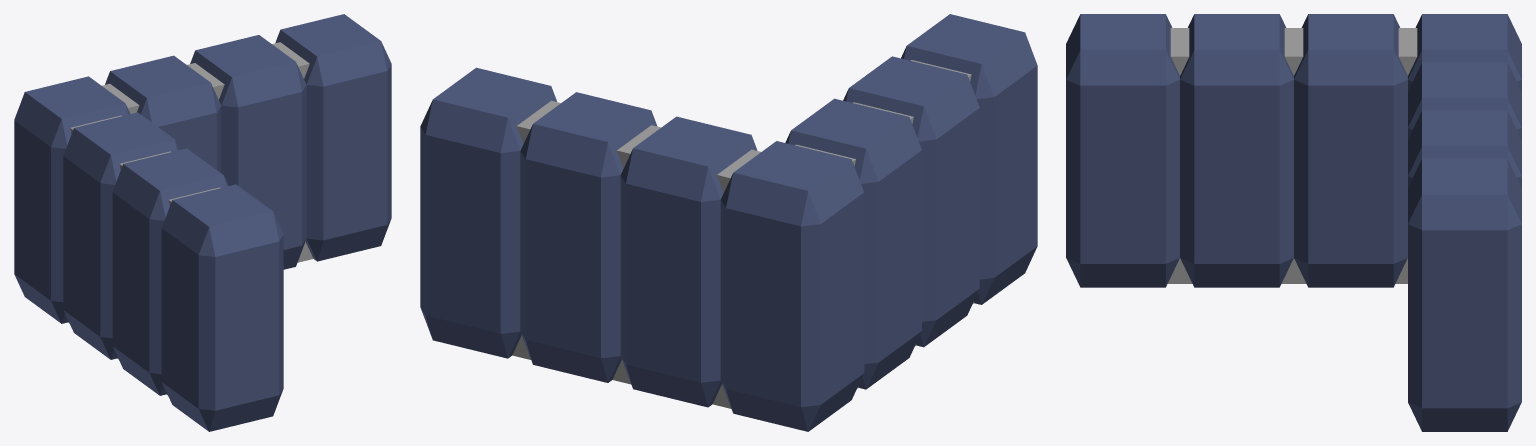
Rendered from Wall_Corner.fbx.
3 views of the same model, side by side, from view 1: azimuth 30°, elevation 25°; view 2: azimuth 150°, elevation 25°; view 3: azimuth 270°, elevation 25° (orthographic). The views are drawn at different scales.
Parts seen in each view (by area): view 1: block_bevel (×7), block; view 2: block_bevel (×7), block; view 3: block_bevel (×7), block.
Boxes of the visible parts, x1,y1,x2,y2 form: block_bevel (×7): [14, 14, 391, 431]; block: [102, 42, 313, 262]; block_bevel (×7): [420, 14, 1037, 431]; block: [512, 100, 760, 408]; block_bevel (×7): [1066, 14, 1521, 431]; block: [1167, 28, 1417, 283].
Size of the model in its own units: 40 by 23 by 40.
